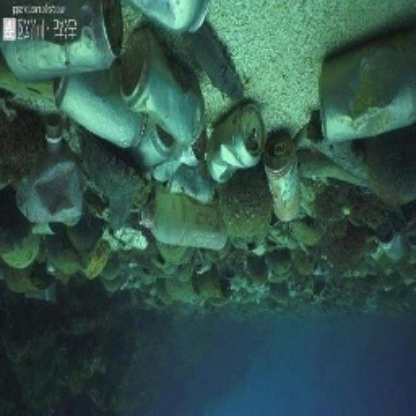bottle: (312, 27, 416, 140), (117, 28, 205, 147), (135, 191, 232, 252), (261, 133, 305, 220)
